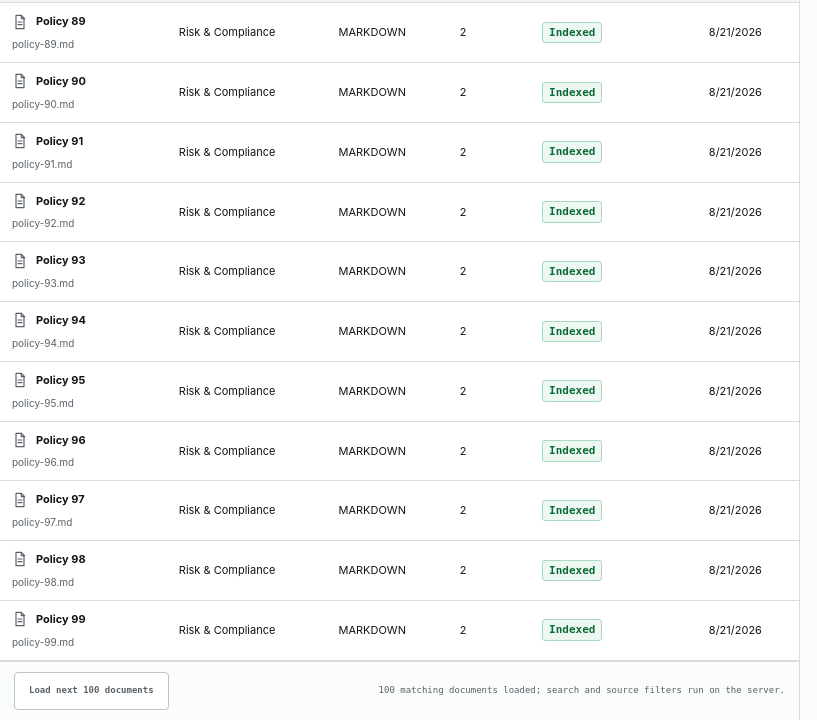
Test case: Knowledge Base evidence reader › pages the server-side document catalog beyond the first 100 records
(page scrolled)
Click the button "Load next 100 documents".
click(91, 690)  # box [14,672,169,710]
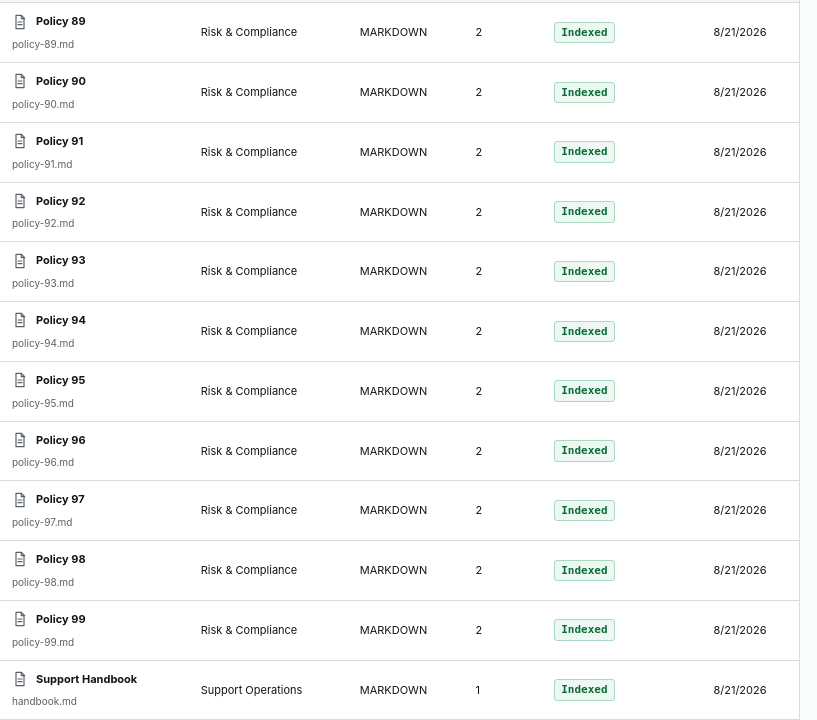
Expected: the button "Support Handbook" is shown, [12,670,137,687]
